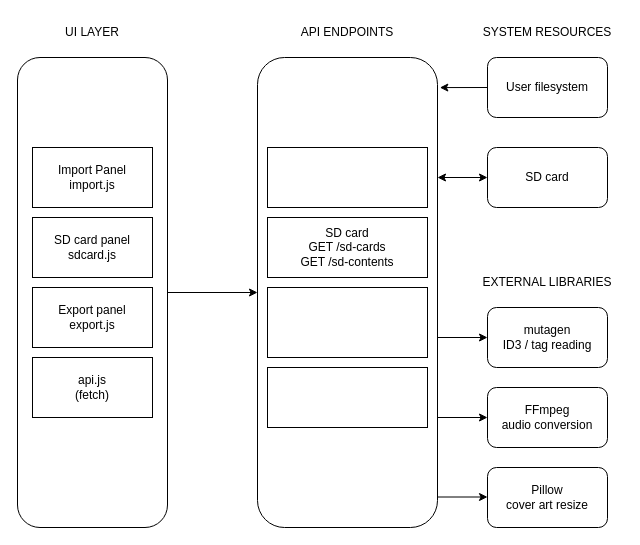
This 640x545 diagram has some shape labels left out. The shapes that lost their labels are listed below. From the top down, each one's box as (x1, y1, x2, y2) in pixels, then its label:
(266, 146, 428, 208): Scanning POST /scan-folders POST /update-album
(16, 56, 168, 528): Frontend Browser UI
(256, 56, 438, 528): FastAPI backend (main.py)
(266, 286, 428, 358): Export POST /export GET /export/progress POST /export/cancel
(266, 366, 428, 428): Settings GET / POST /settings
